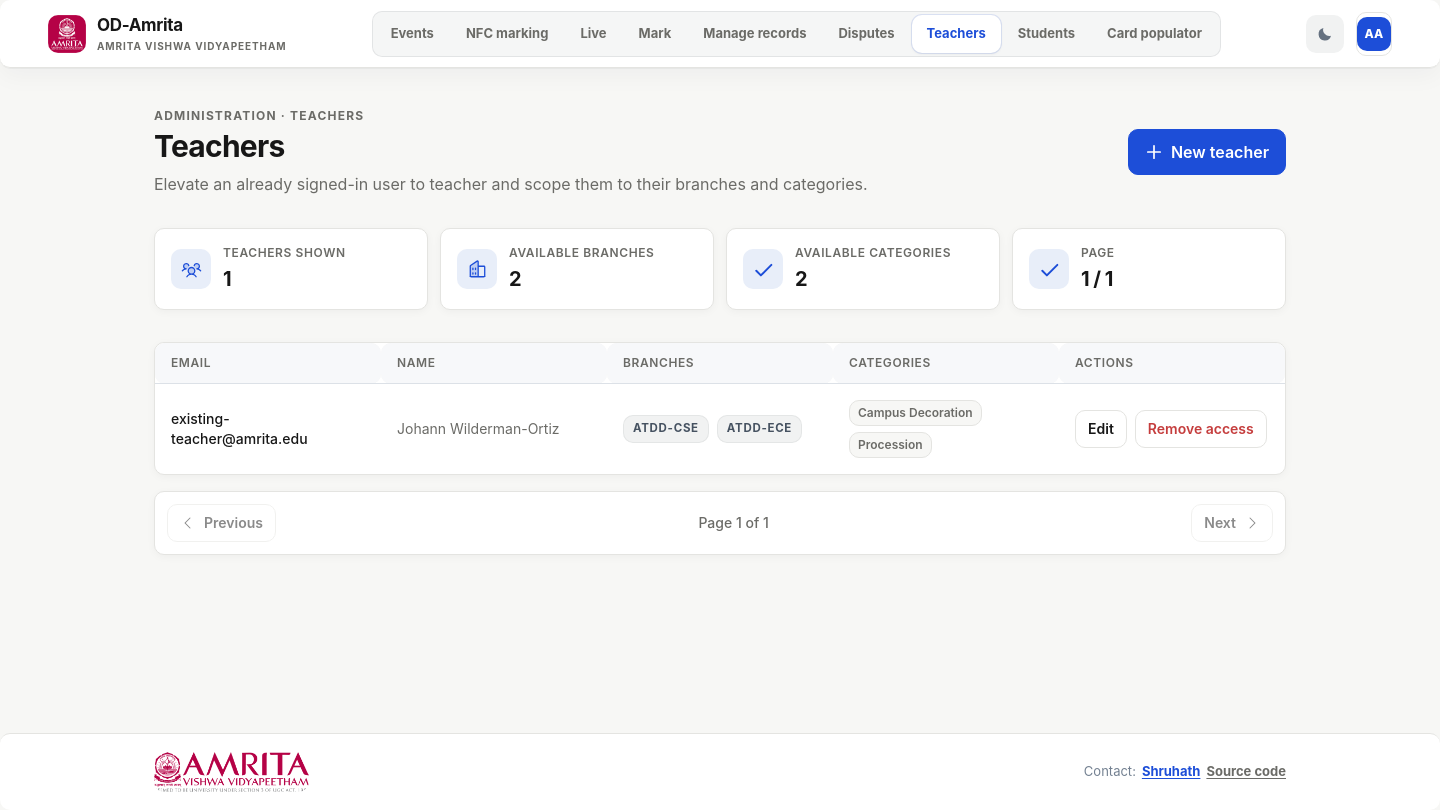
Admin teachers portal composition (ATDD red phase) › [P1] maps a typed ROLE_ALREADY_ASSIGNED rejection onto an announced non-field error
Click the button "New teacher" at (1207, 152), box [1128,129,1286,175]
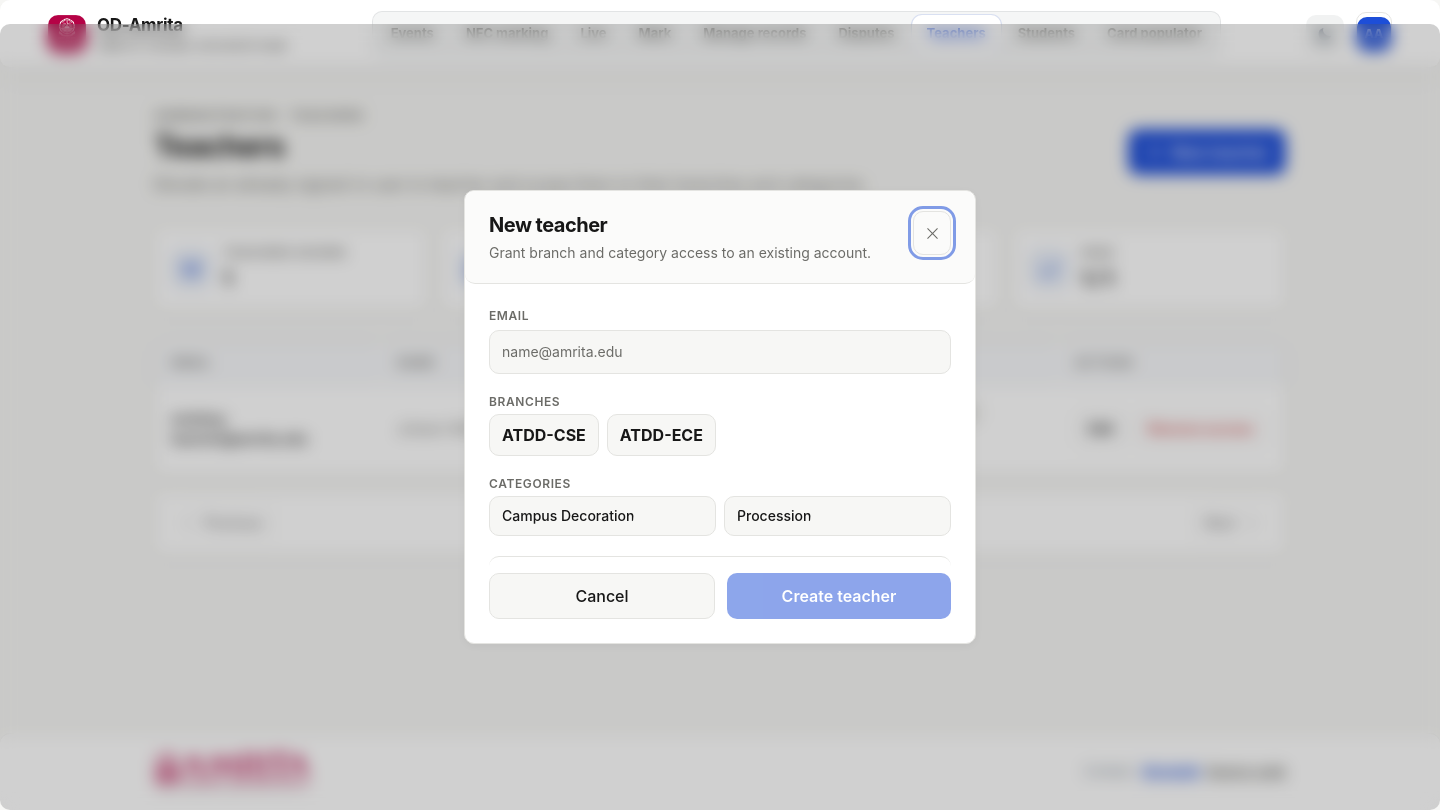
Type "already-admin@amrita.edu" into the field labelled "Email" at (720, 352), box [489,330,951,374]
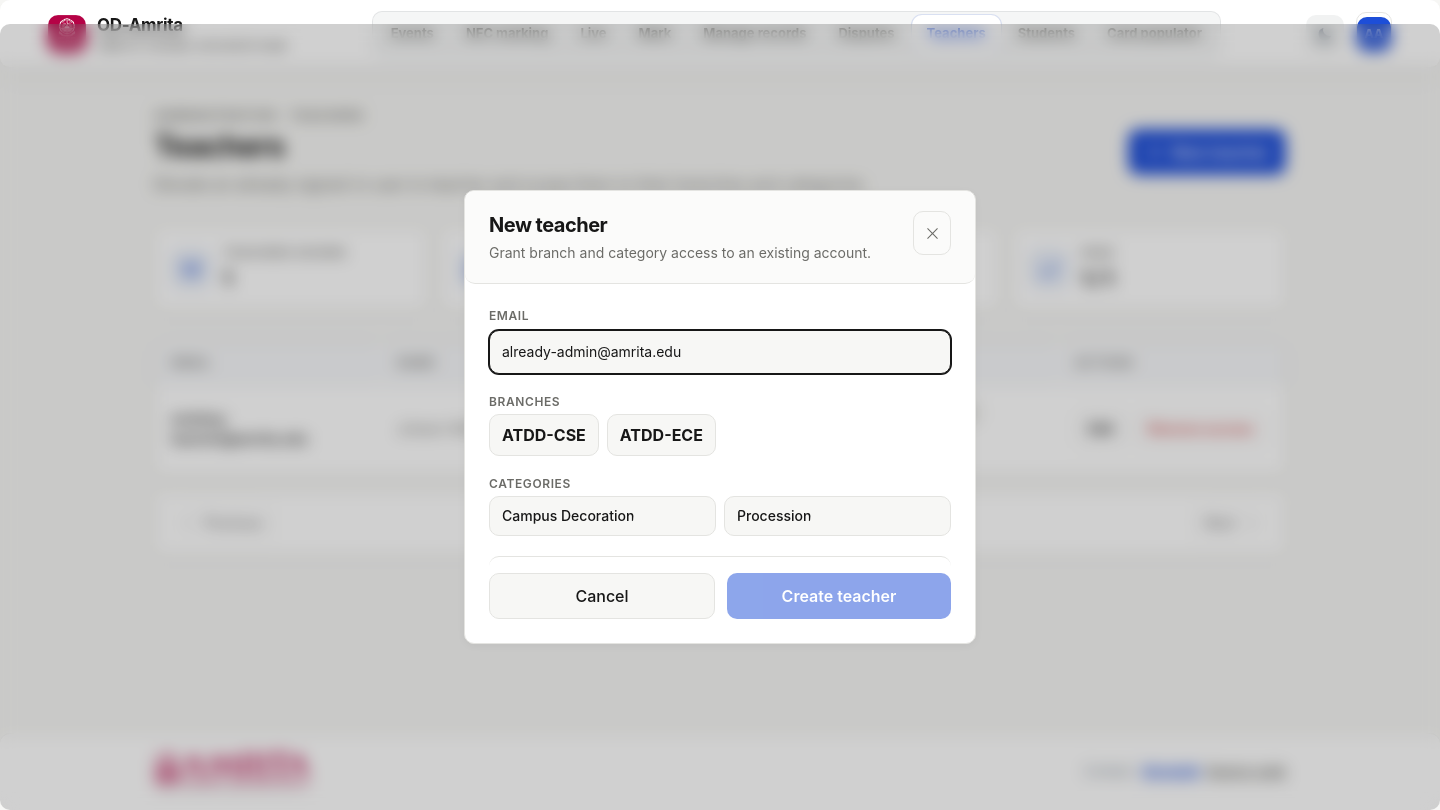
Click the checkbox named "Computer Science" at (544, 435), box [489,414,599,456]
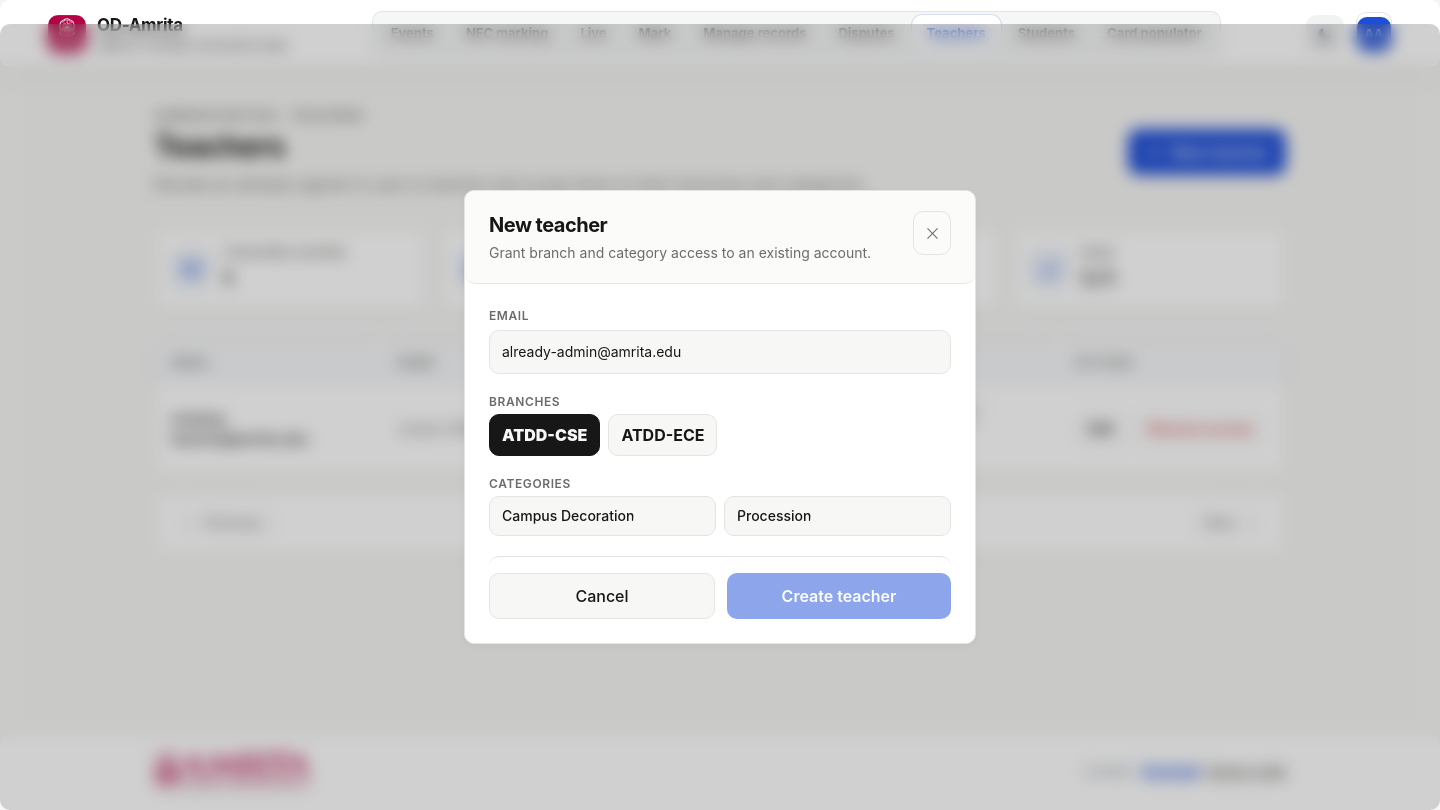
Click the checkbox labelled "Campus Decoration" at (602, 516), box [489,496,716,536]
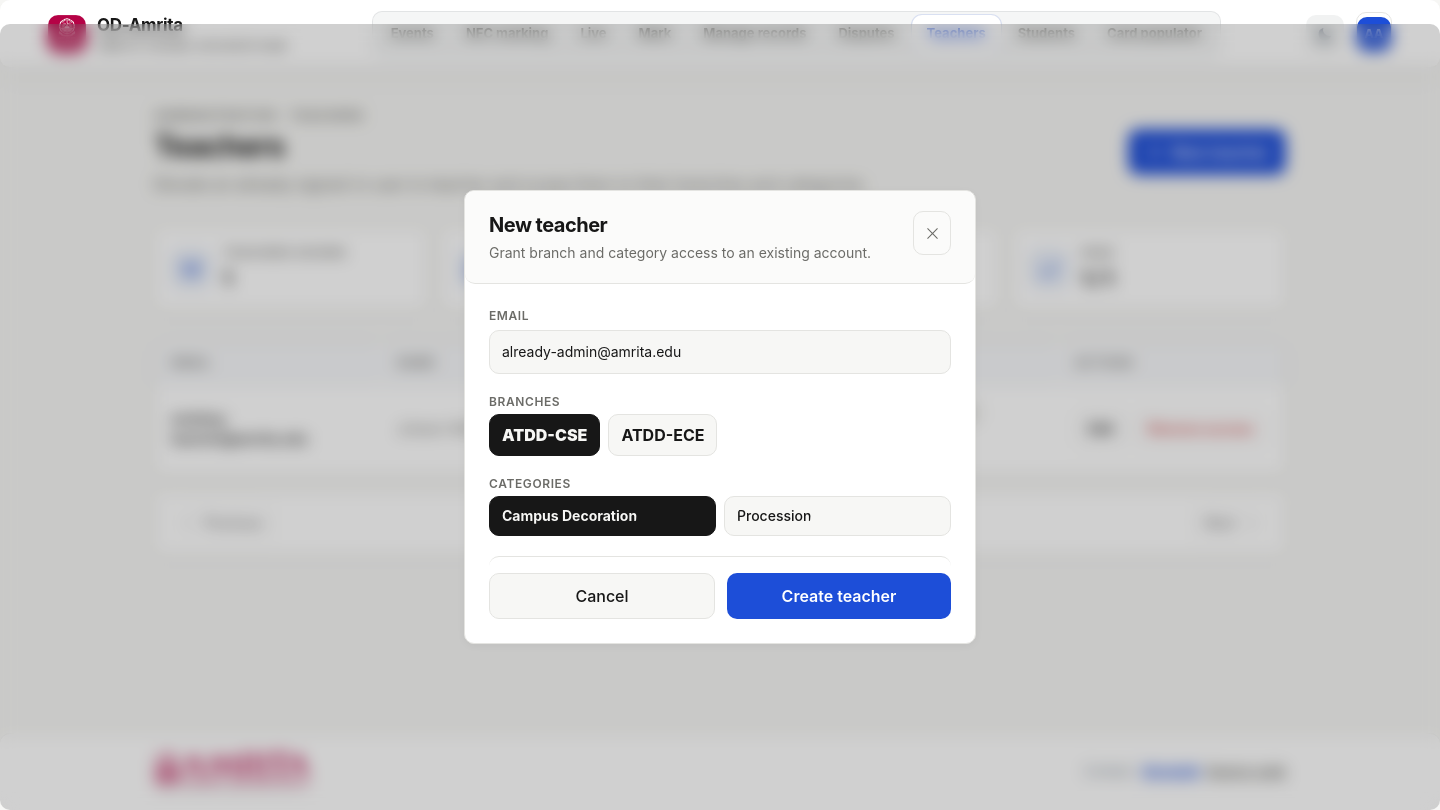
Click the button "Create teacher" at (839, 596), box [727,573,951,619]
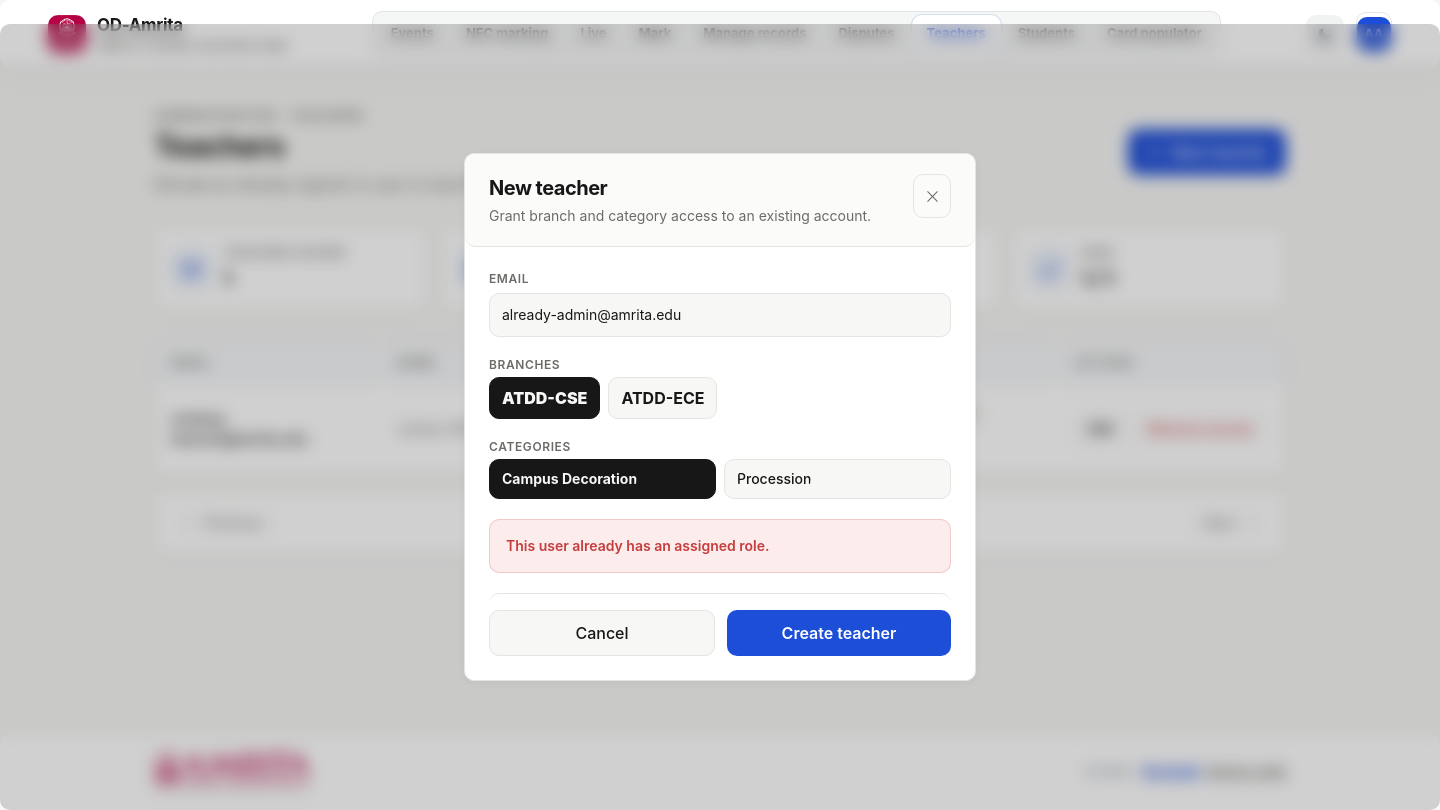
Check: the message reads "This user already has an assigned role.", box [506,537,769,554]
